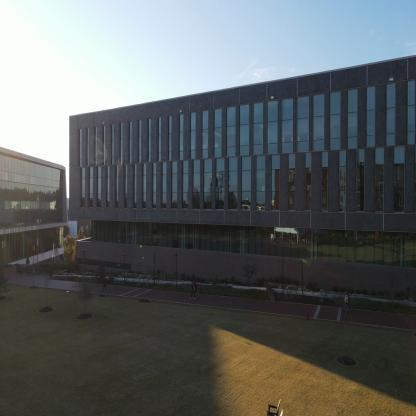Fitts- Woolard: (63, 106, 409, 309)
Hunt Library: (0, 157, 61, 270)
